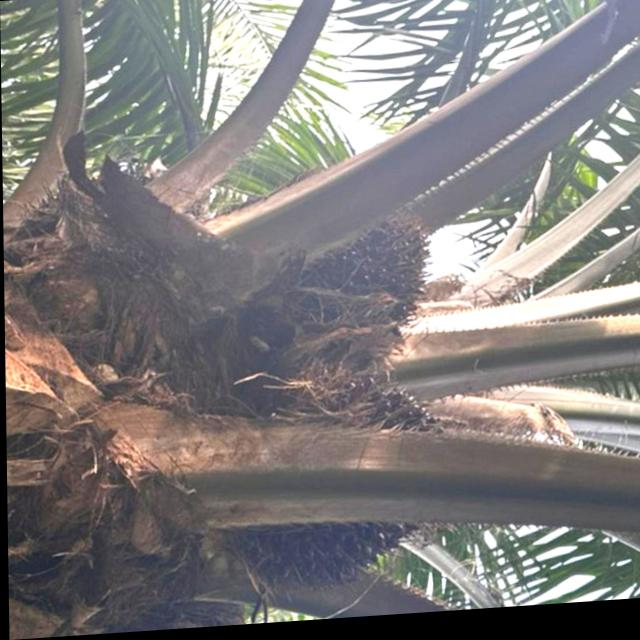unripe: (228, 389, 452, 600), (248, 198, 436, 378)
